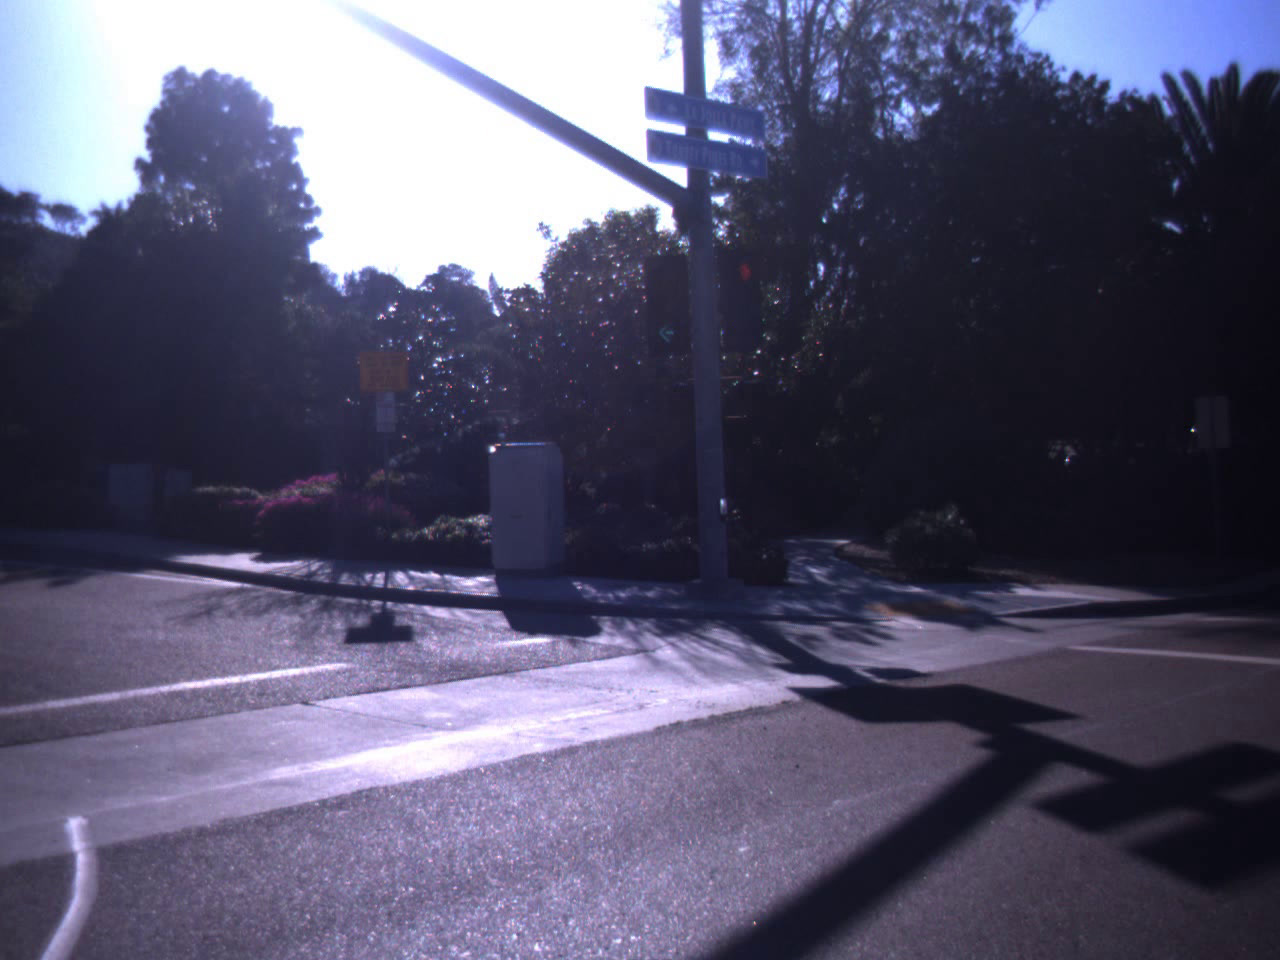go: (639, 269, 693, 349)
